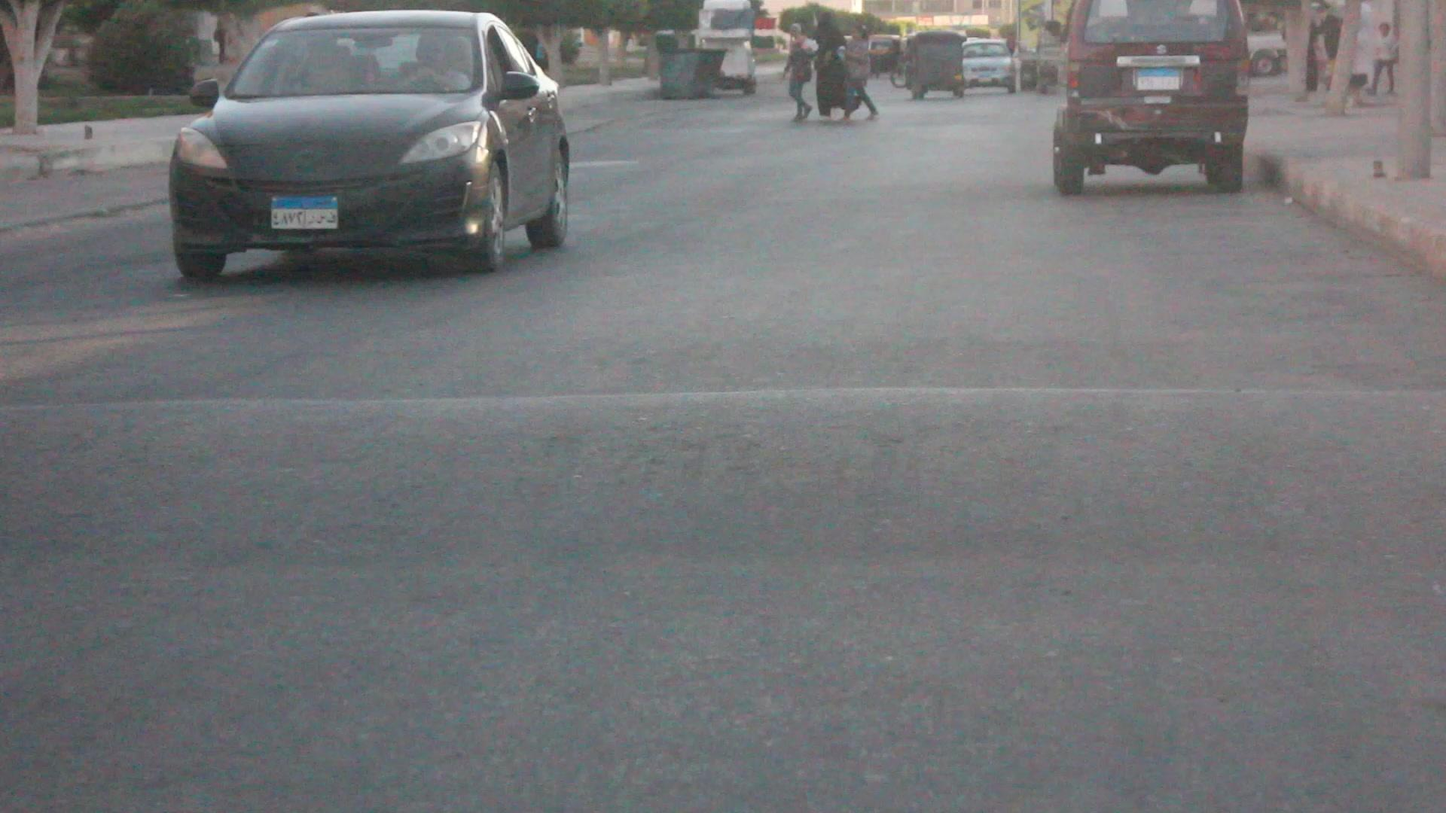Bump: (0, 382, 1446, 582)
